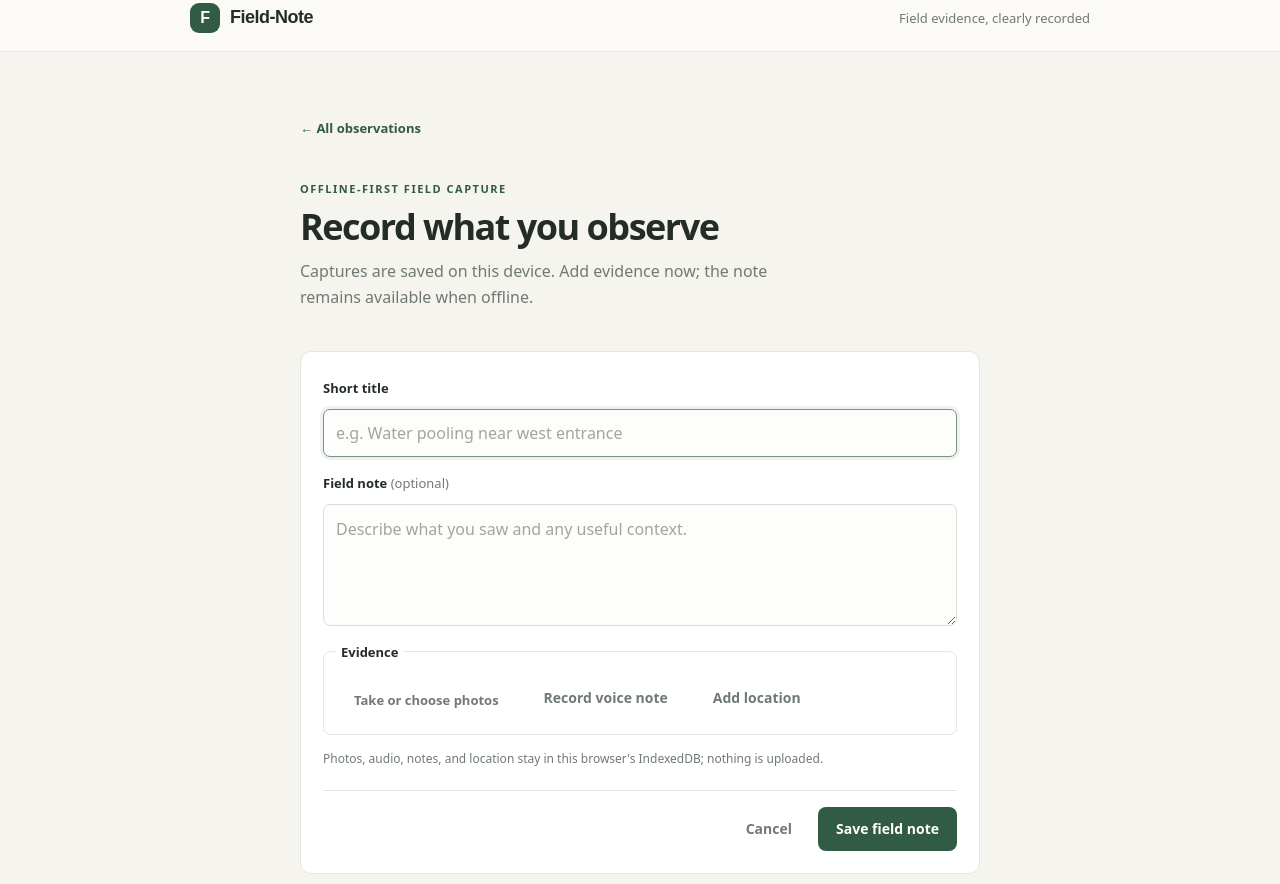
Field-Note interactions › records a voice note and makes the saved audio available in the detail view
In the field labelled "Short title": (640, 433) [323,409,957,457], type "Pump noise"
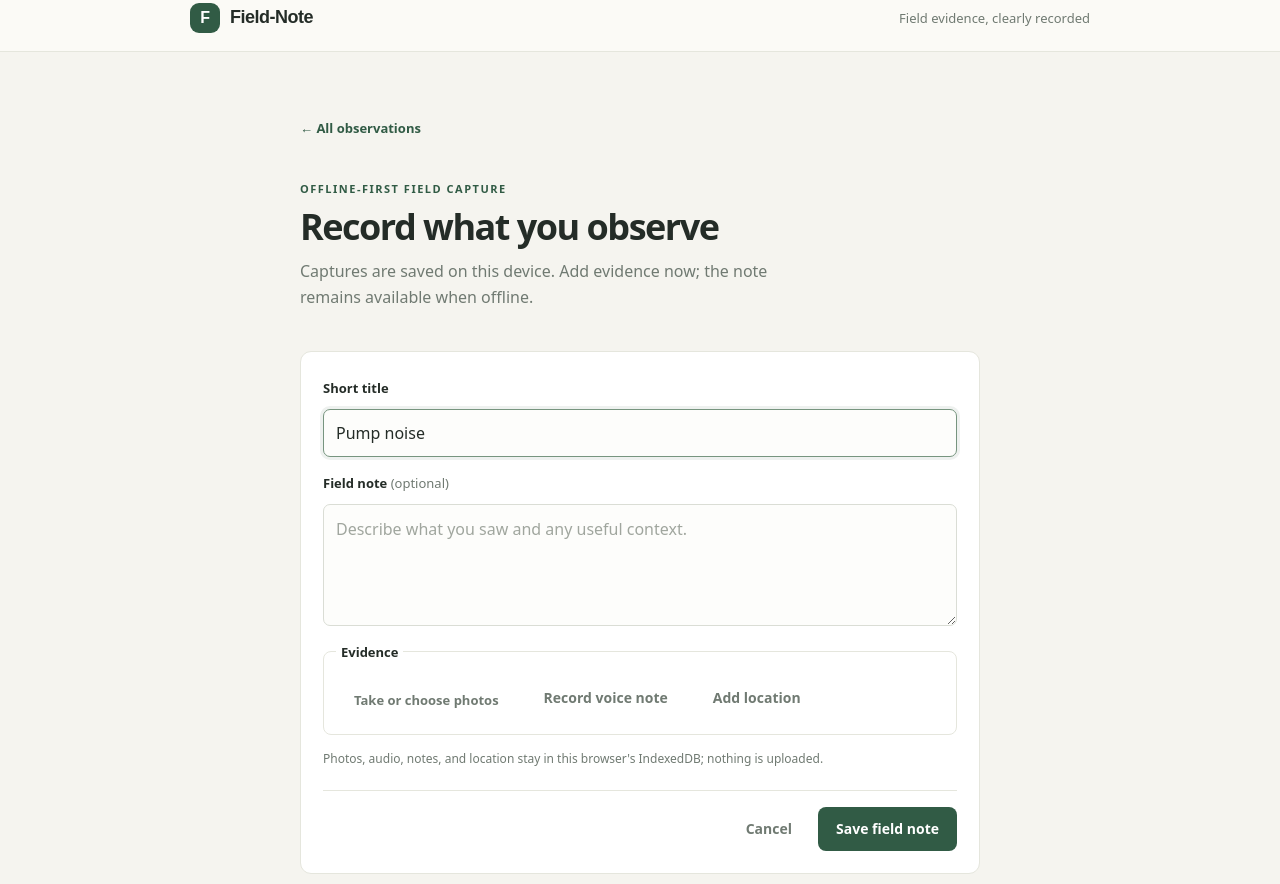
Click the button "Record voice note": (606, 697) [526,675,686,719]
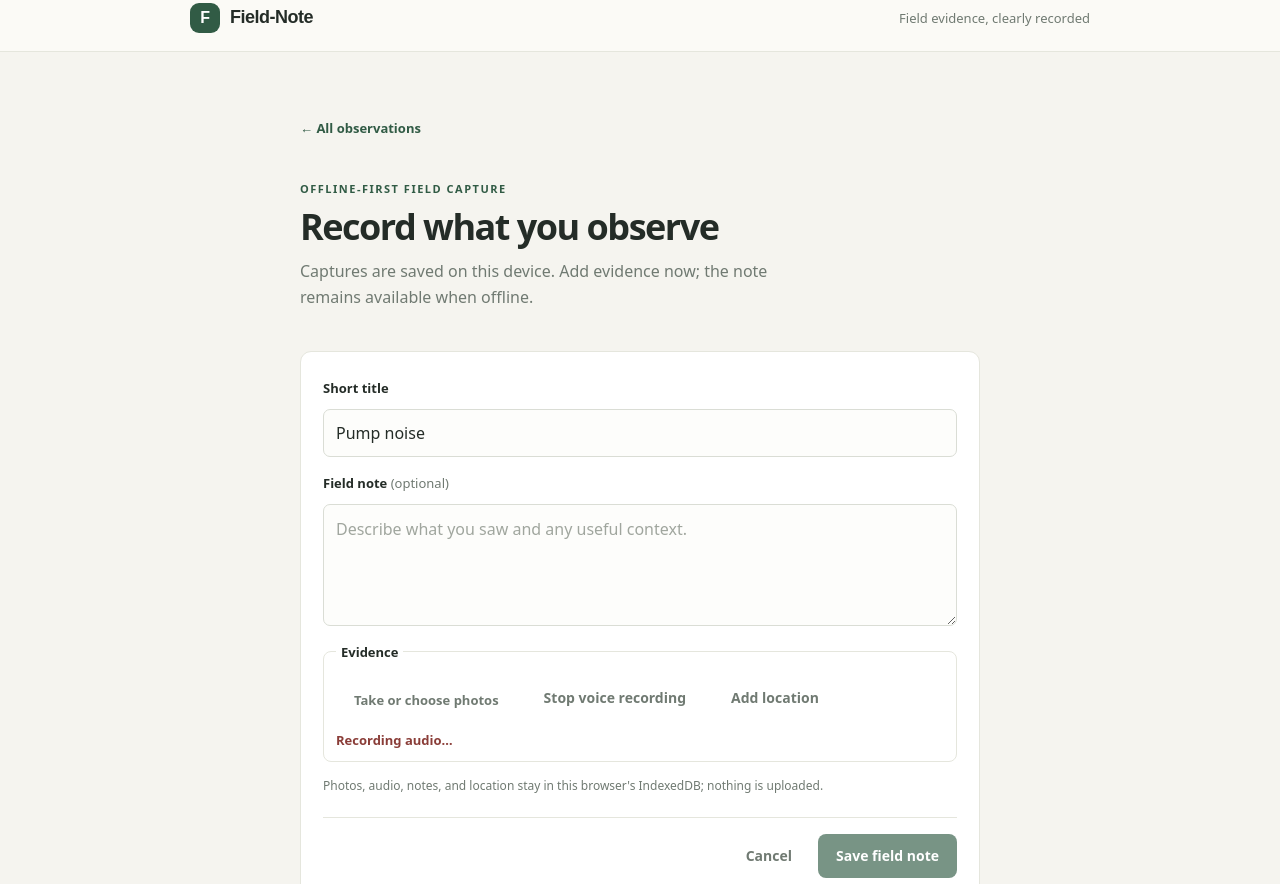
Click the button "Stop voice recording": (615, 697) [526,675,704,719]
(page scrolled)
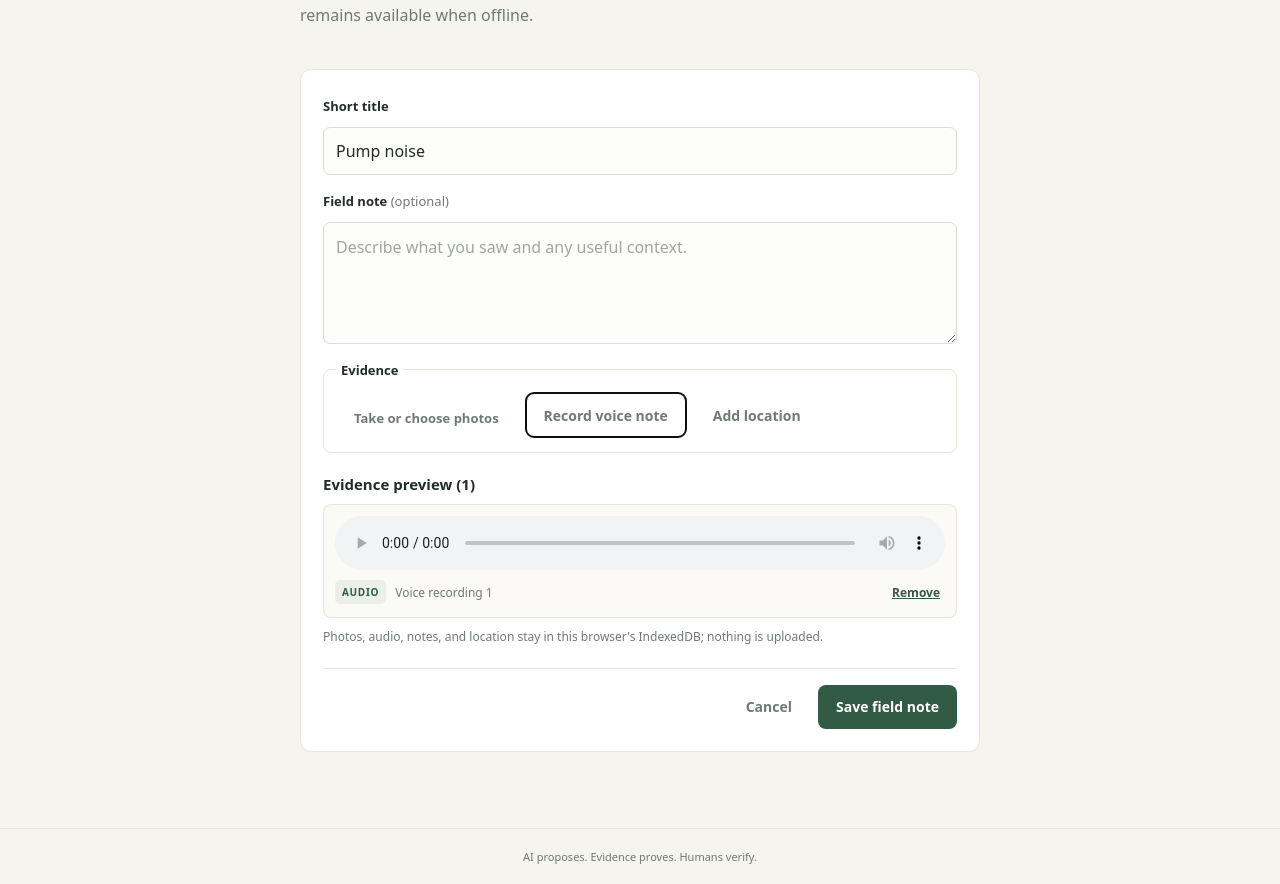
Expected: the text "Voice recording 1" is shown, [395,584,493,601]
Click the button "Save field note": (888, 707) [818,685,957,729]
(page scrolled)
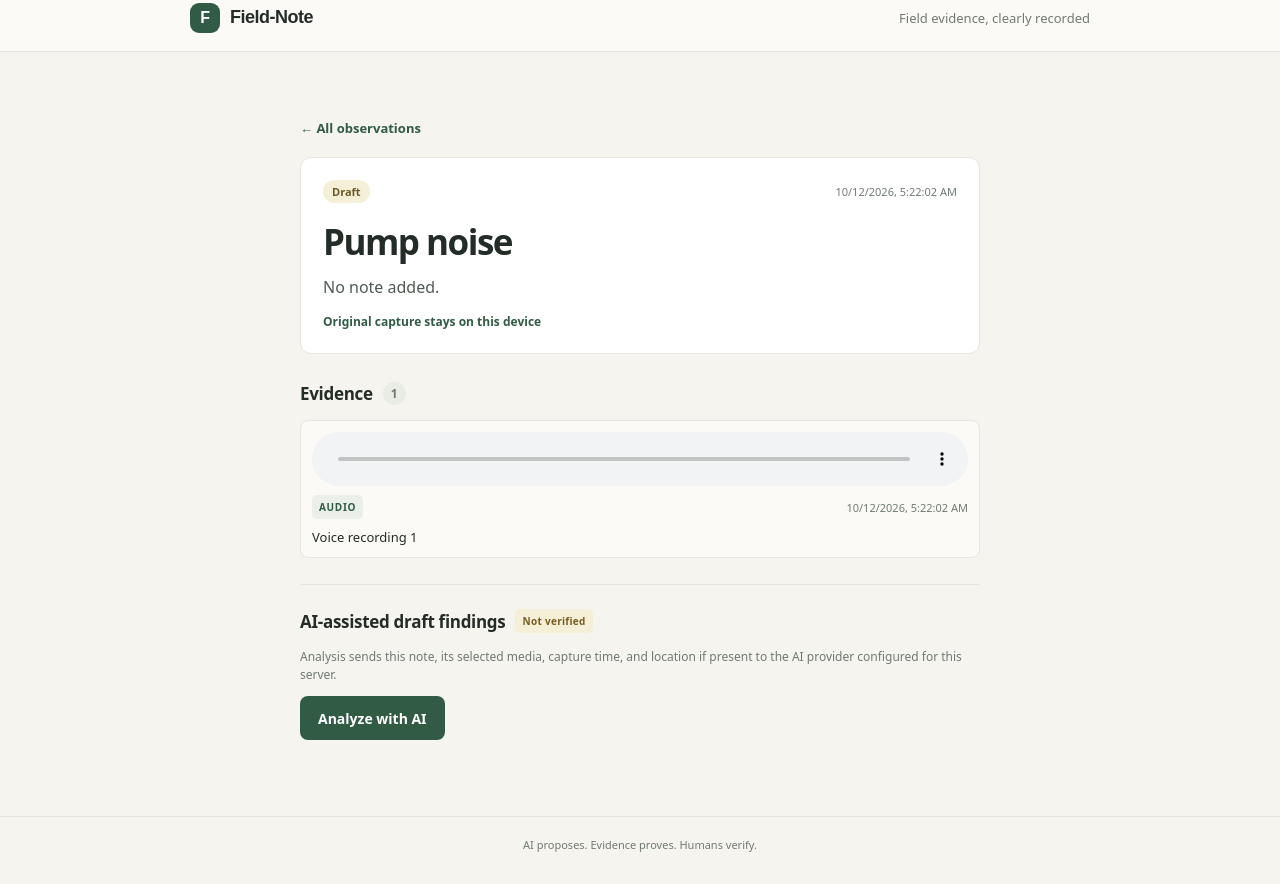
Expected: the heading "Pump noise" is shown, [323,218,512,265]
